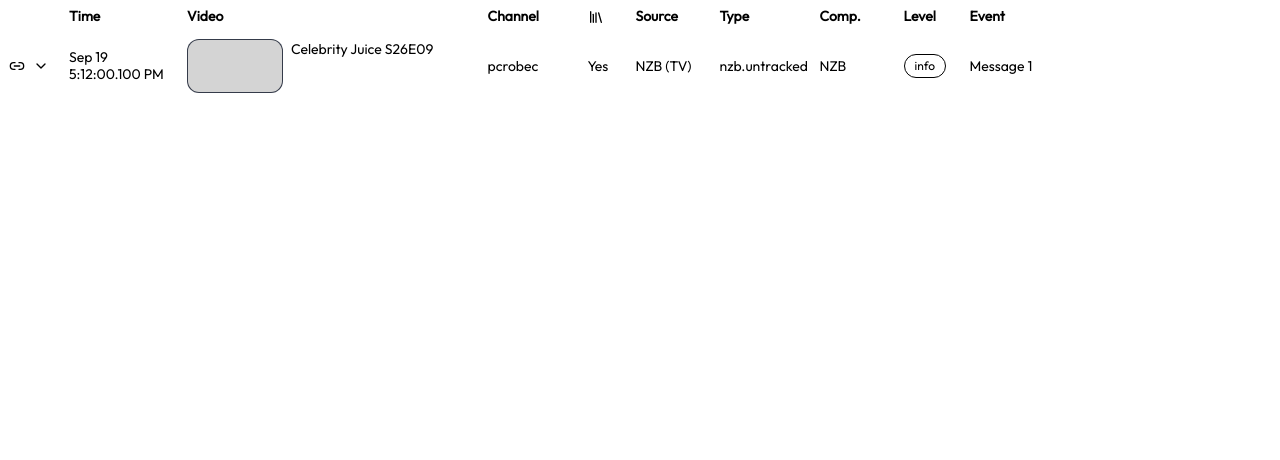
Test case: EventLogTable › expansion row › hides them again when collapsed
This screenshot has width=1280, height=460.
Click the button named "Show details": (41,66) [29, 54, 53, 78]
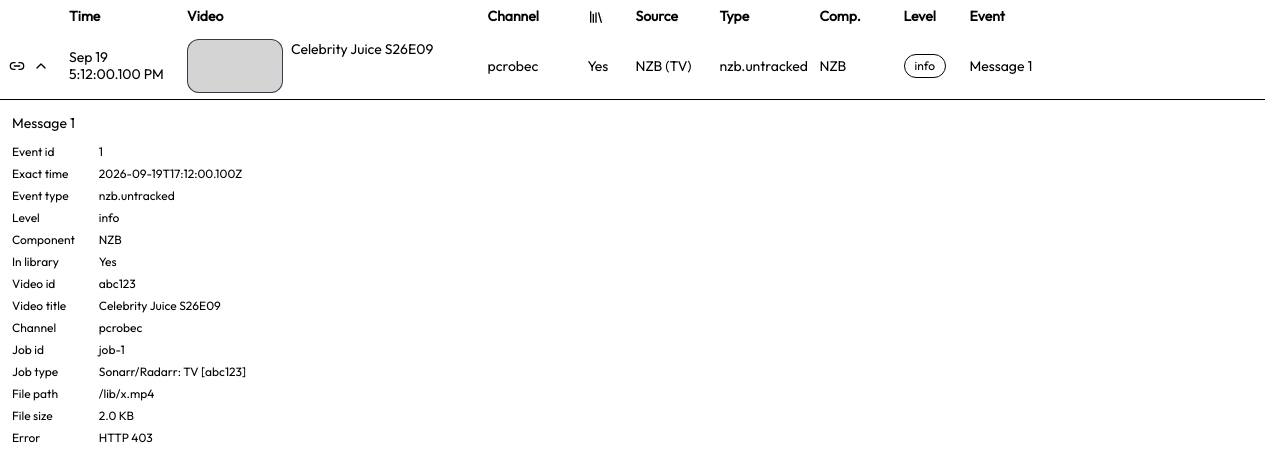
Click the button named "Hide details": (41,66) [29, 54, 53, 78]
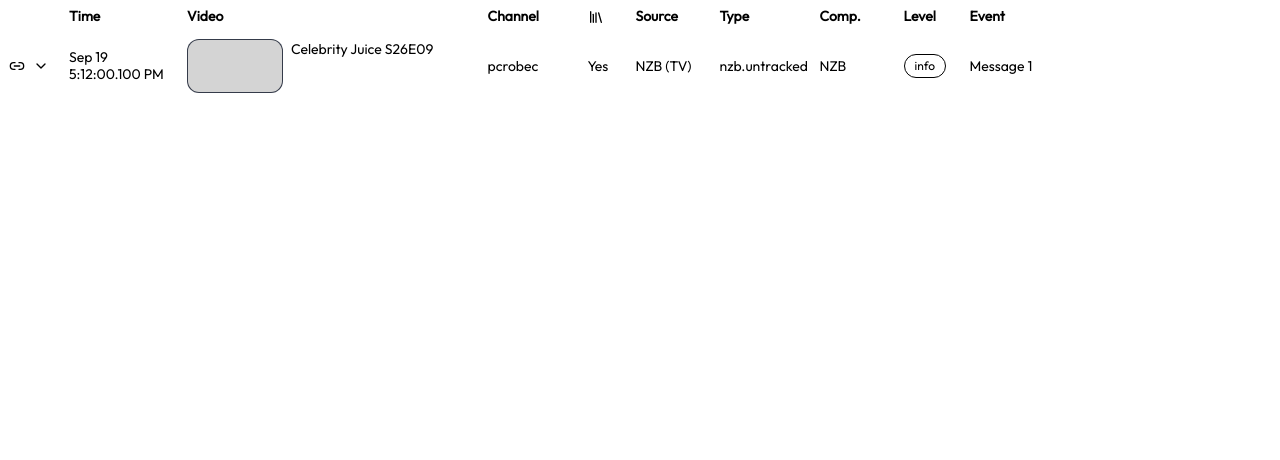
Result: the element with test id "event-detail" is gone
